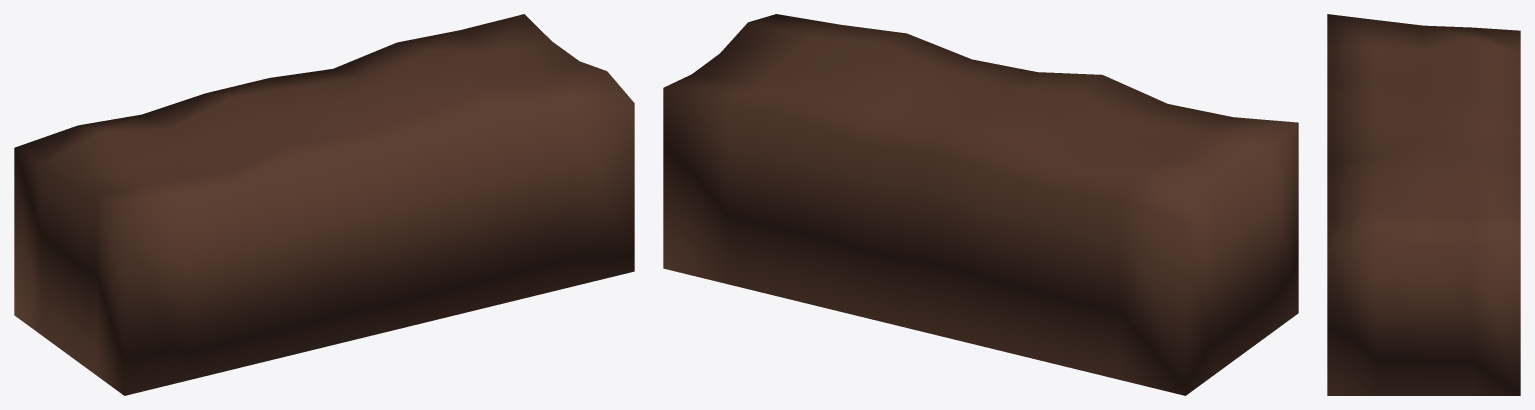
Rendered from GardenBoxDirtfbx.fbx.
3 views of the same model, side by side, from view 1: azimuth 30°, elevation 25°; view 2: azimuth 150°, elevation 25°; view 3: azimuth 270°, elevation 25° (orthographic). The views are drawn at different scales.
Visible parts, largest first — view 1: Cube.006; view 2: Cube.006; view 3: Cube.006.
Boxes of the visible parts, x1=… form: Cube.006: x1=14, y1=14, x2=634, y2=395; Cube.006: x1=663, y1=14, x2=1298, y2=395; Cube.006: x1=1327, y1=14, x2=1520, y2=395.
Size of the model in its own units: 385 by 142 by 144.
